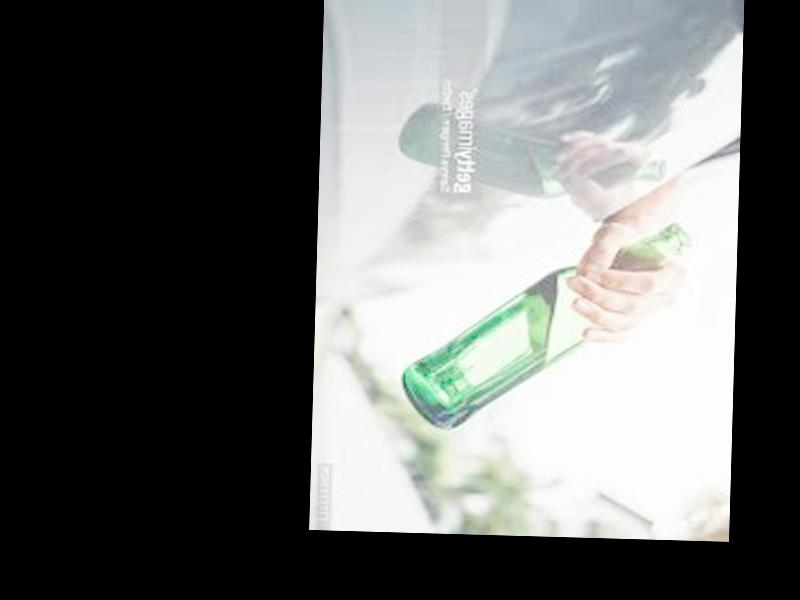Beer: (401, 212, 687, 436)
